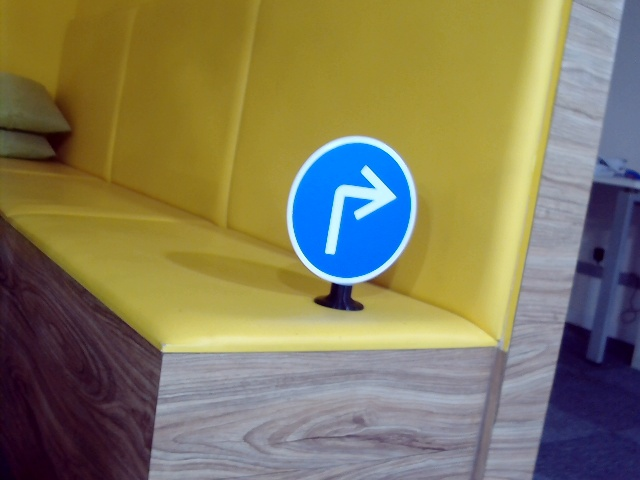turn_right: (322, 163, 391, 254)
